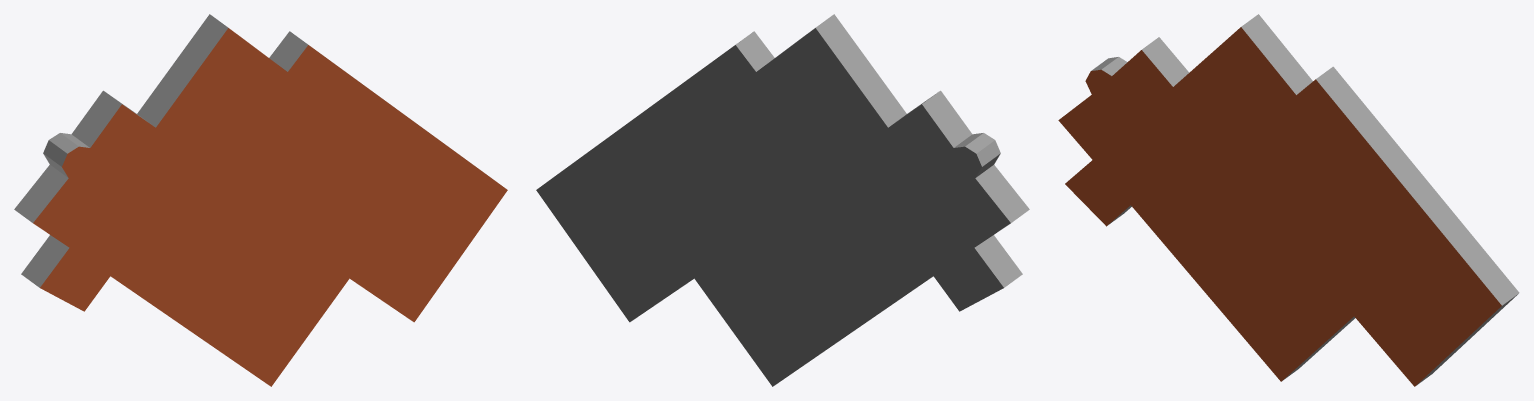
File: construction_1003_assumed_A_Casa_h6m.obj
3 views of the same model, side by side, from view 1: azimuth 30°, elevation 25°; view 2: azimuth 150°, elevation 25°; view 3: azimuth 330°, elevation 25° (orthographic). The views are drawn at different scales.
Visible parts, largest first — view 1: construction_1003_assumed_A_Casa; view 2: construction_1003_assumed_A_Casa; view 3: construction_1003_assumed_A_Casa.
Part boxes in pixels (box(x1,y1,x2,y2)): construction_1003_assumed_A_Casa: box(14, 14, 507, 386); construction_1003_assumed_A_Casa: box(536, 14, 1029, 386); construction_1003_assumed_A_Casa: box(1058, 14, 1519, 386).
Bounding box in the file's own units: 87.37 × 64.98 × 6.
